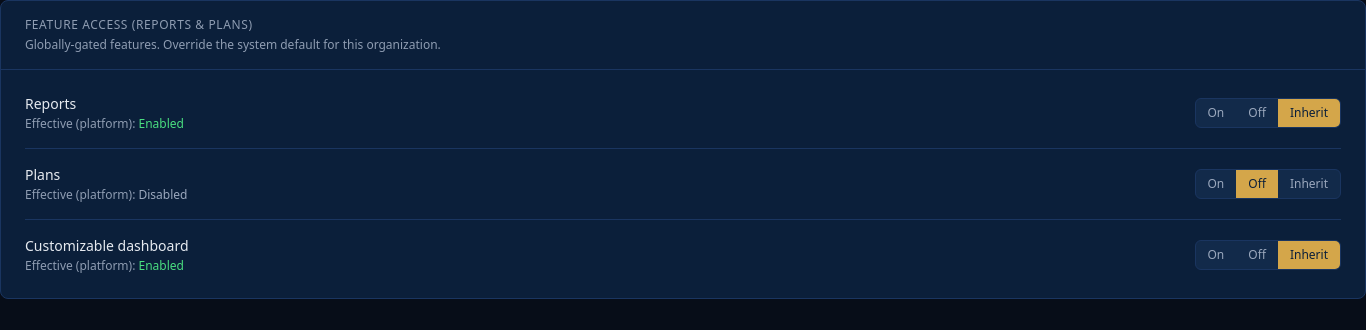
OrgFeatureGateCard › shows a per-feature error when PUT fails
Check: the text "Reports" is shown, box top-left (25, 94), bottom-right (76, 113)
Click the 1st button "on".
click(1216, 113)  # box top-left (1196, 99), bottom-right (1236, 127)
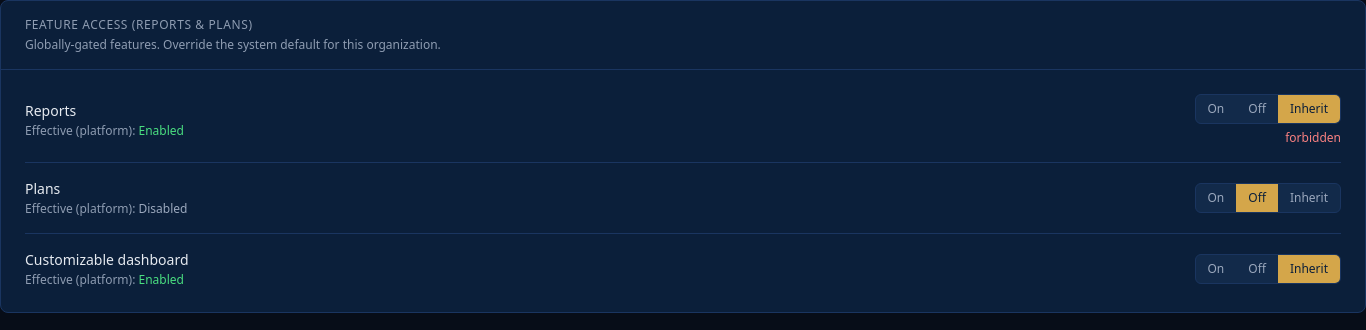
Check: the text "forbidden" is shown, box top-left (1285, 130), bottom-right (1341, 146)
